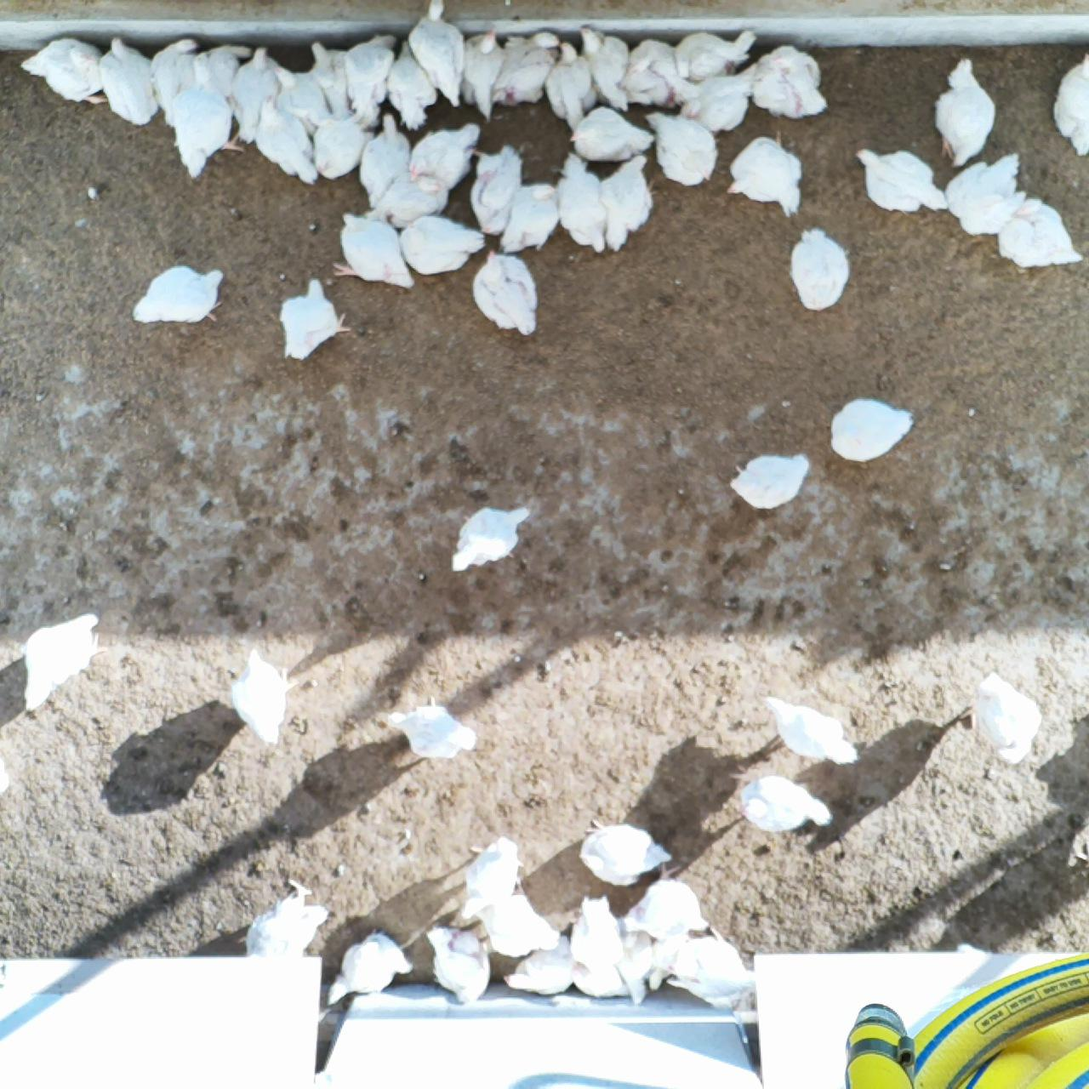chicken: (24, 610, 100, 713), (960, 672, 1043, 766), (241, 874, 331, 960), (323, 923, 413, 1007), (730, 765, 833, 833), (945, 154, 1028, 236), (763, 694, 858, 765), (621, 864, 708, 939), (935, 57, 995, 165), (332, 212, 416, 289), (232, 649, 298, 746), (409, 1, 473, 101), (578, 817, 673, 884), (172, 86, 240, 178), (727, 134, 802, 216), (855, 146, 949, 209), (671, 938, 756, 1005), (281, 280, 352, 360), (998, 201, 1084, 267), (387, 697, 479, 758), (257, 95, 319, 185), (578, 27, 643, 112), (458, 836, 522, 920), (21, 37, 105, 101), (100, 36, 160, 125), (133, 264, 222, 324), (832, 398, 915, 462), (751, 47, 828, 115), (475, 250, 536, 335), (424, 926, 488, 1007), (346, 30, 404, 119), (557, 152, 608, 253), (451, 506, 529, 572), (599, 154, 652, 251), (647, 112, 717, 185), (399, 216, 486, 274), (359, 115, 411, 211), (790, 229, 850, 312), (476, 894, 560, 953), (497, 181, 562, 254), (729, 453, 811, 510), (470, 146, 522, 231), (550, 41, 599, 131), (570, 107, 651, 160), (413, 123, 481, 184), (235, 48, 283, 134), (569, 894, 626, 966), (270, 66, 334, 128), (463, 26, 506, 118), (390, 41, 437, 125), (627, 37, 684, 106), (504, 937, 572, 993), (673, 30, 759, 74), (1054, 53, 1089, 155), (682, 75, 750, 127), (376, 175, 449, 223), (151, 35, 197, 106), (315, 119, 365, 181), (195, 42, 249, 96), (309, 41, 349, 113), (493, 61, 548, 110), (567, 966, 624, 1001), (501, 28, 559, 60)
